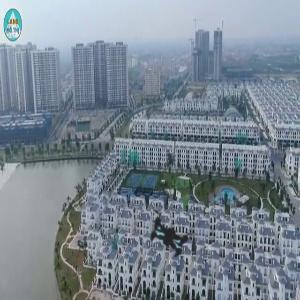drone: (120, 183, 224, 287)
